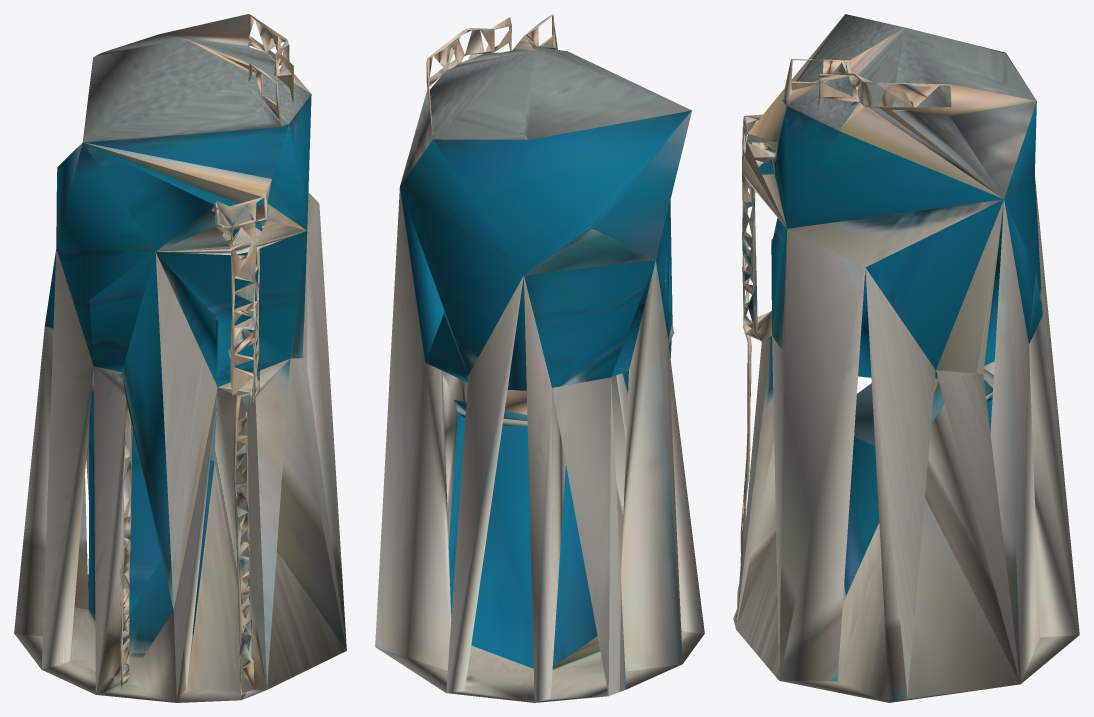
The model's file is fv_water_tower.lod1.glb.
3 renders of one model, left to right at view 1: azimuth 30°, elevation 25°; view 2: azimuth 150°, elevation 25°; view 3: azimuth 270°, elevation 25°, orthographic. The views are drawn at different scales.
Visible parts, largest first — view 1: fv_water_tower; view 2: fv_water_tower; view 3: fv_water_tower.
Boxes of the visible parts, left/top/right/bottom form: fv_water_tower: left=14, top=14, right=346, bottom=702; fv_water_tower: left=375, top=14, right=704, bottom=702; fv_water_tower: left=733, top=14, right=1079, bottom=702.
Size of the model in its own units: 4.65 by 9.14 by 4.74.
Materials: 1 (1 with a texture image).
